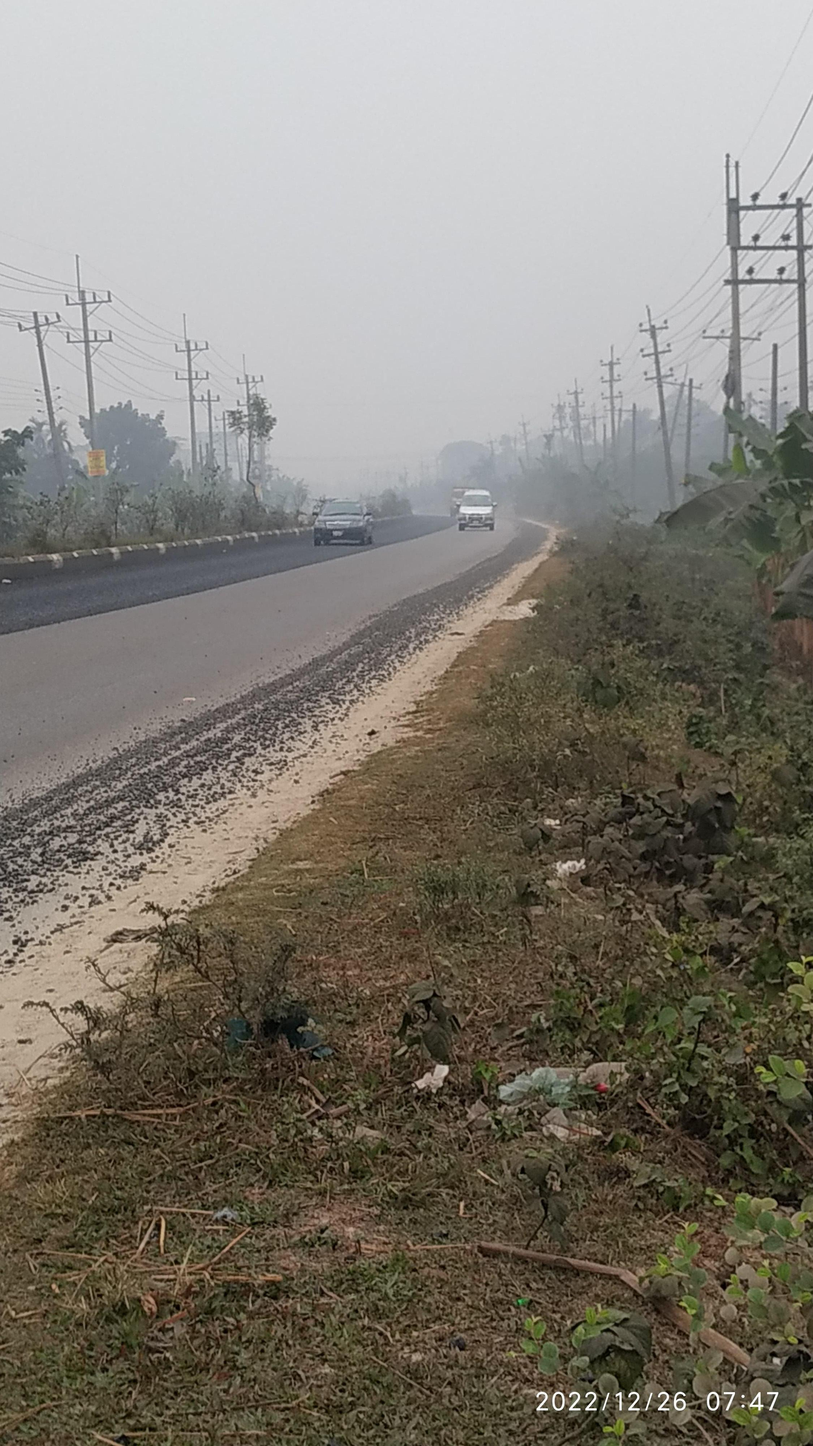Car: (304, 485, 384, 554), (455, 482, 509, 547)
